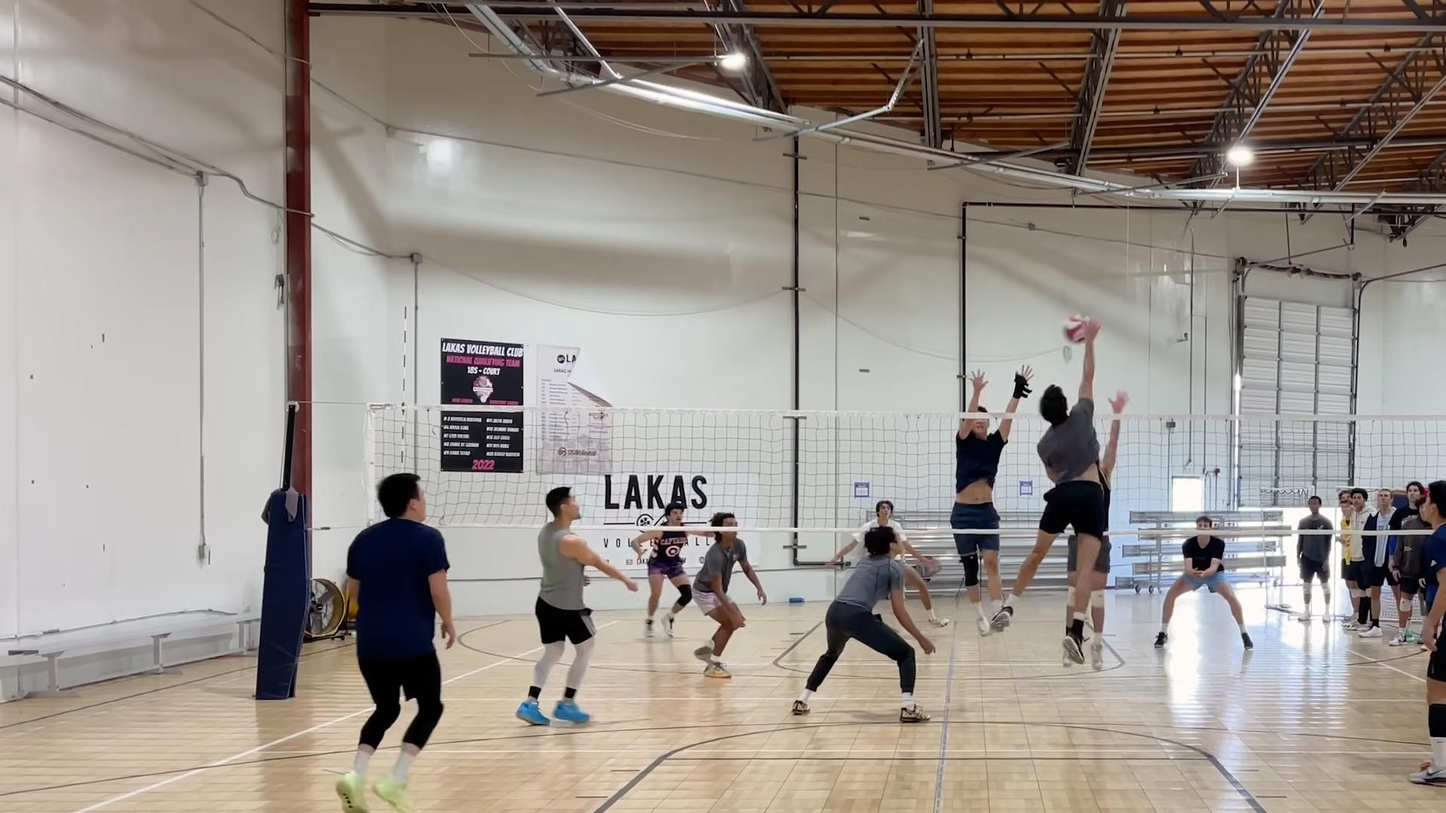attacco: (987, 317, 1130, 643)
muro: (943, 355, 1026, 637), (1064, 380, 1131, 681)
